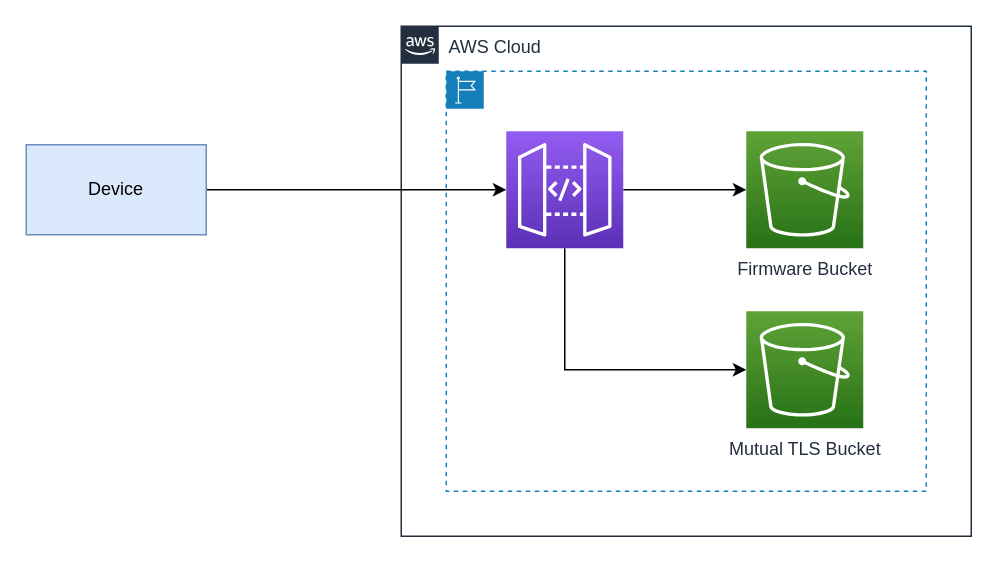
Image size: 998x563. Some labels were removed from this diagram. The box of each missing label's shape, as (x1, y1, x2, y2) in pixels:
API Gateway: (505, 130, 623, 248)
Region: (445, 70, 926, 491)
